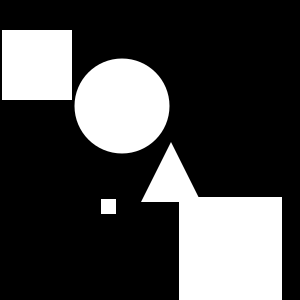circle: (179, 197, 282, 300), (2, 30, 72, 100), (101, 199, 116, 214)
rectangle: (74, 58, 169, 154)
triangle: (141, 142, 201, 202)
